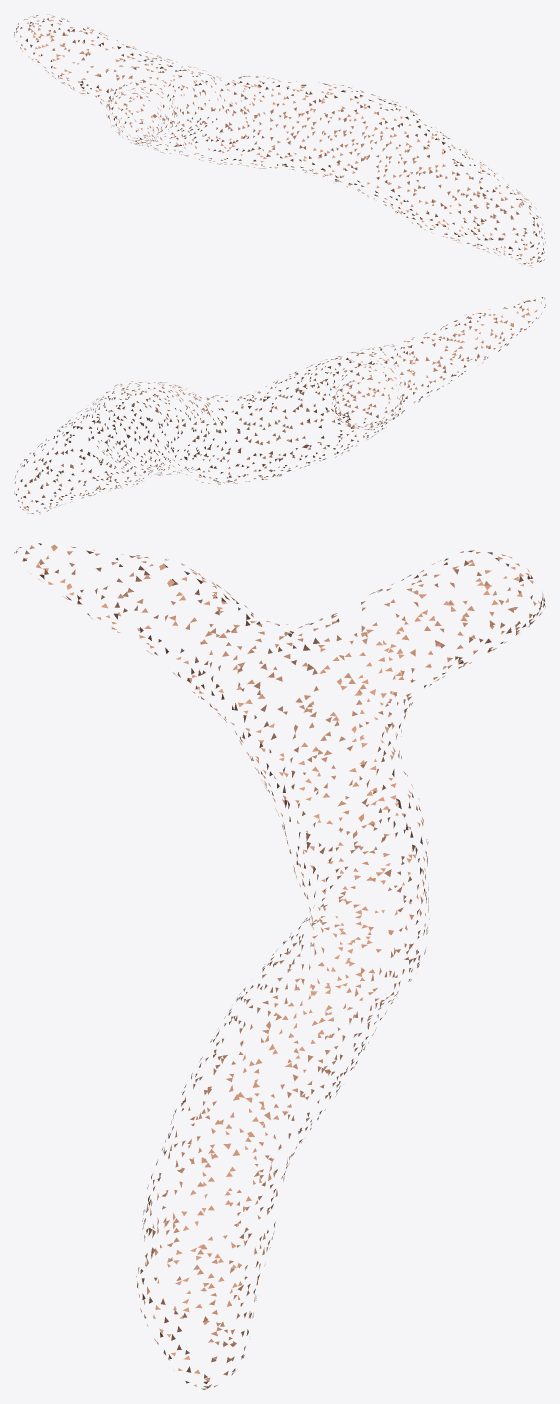
Rendered from morph_004.glb.
3 renders of one model, top to bottom at view 1: azimuth 30°, elevation 25°; view 2: azimuth 150°, elevation 25°; view 3: azimuth 270°, elevation 25°, orthographic. The views are drawn at different scales.
Size of the model in its own units: 93.68 by 56.19 by 55.24.
